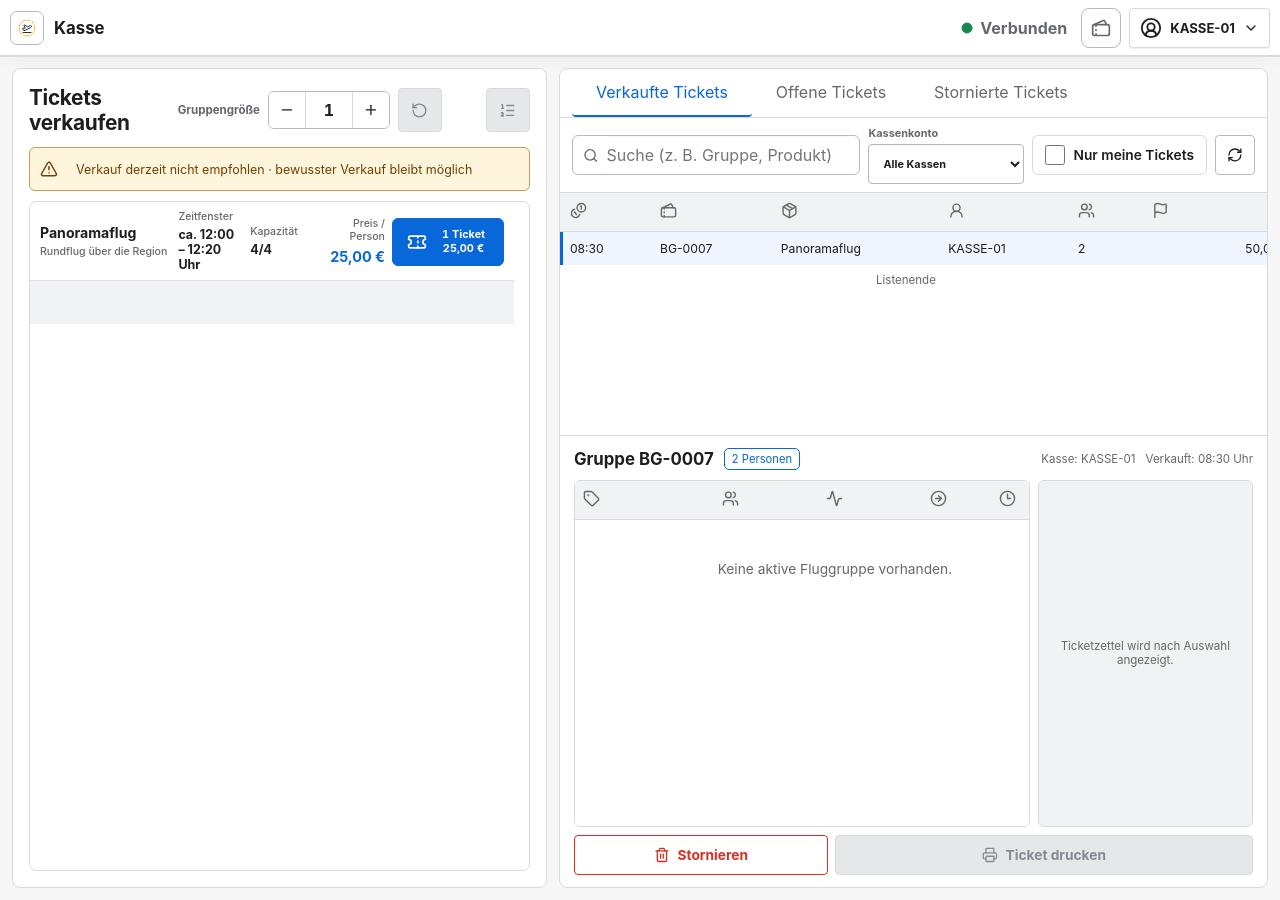
Scenario: cashier workflows › cancels the selected booking group with an explicit reason
The image size is (1280, 900).
Expected: the text "BG-0007" is shown, [650, 232, 771, 265]
Click the button "Stornieren": (701, 855) [574, 835, 828, 875]
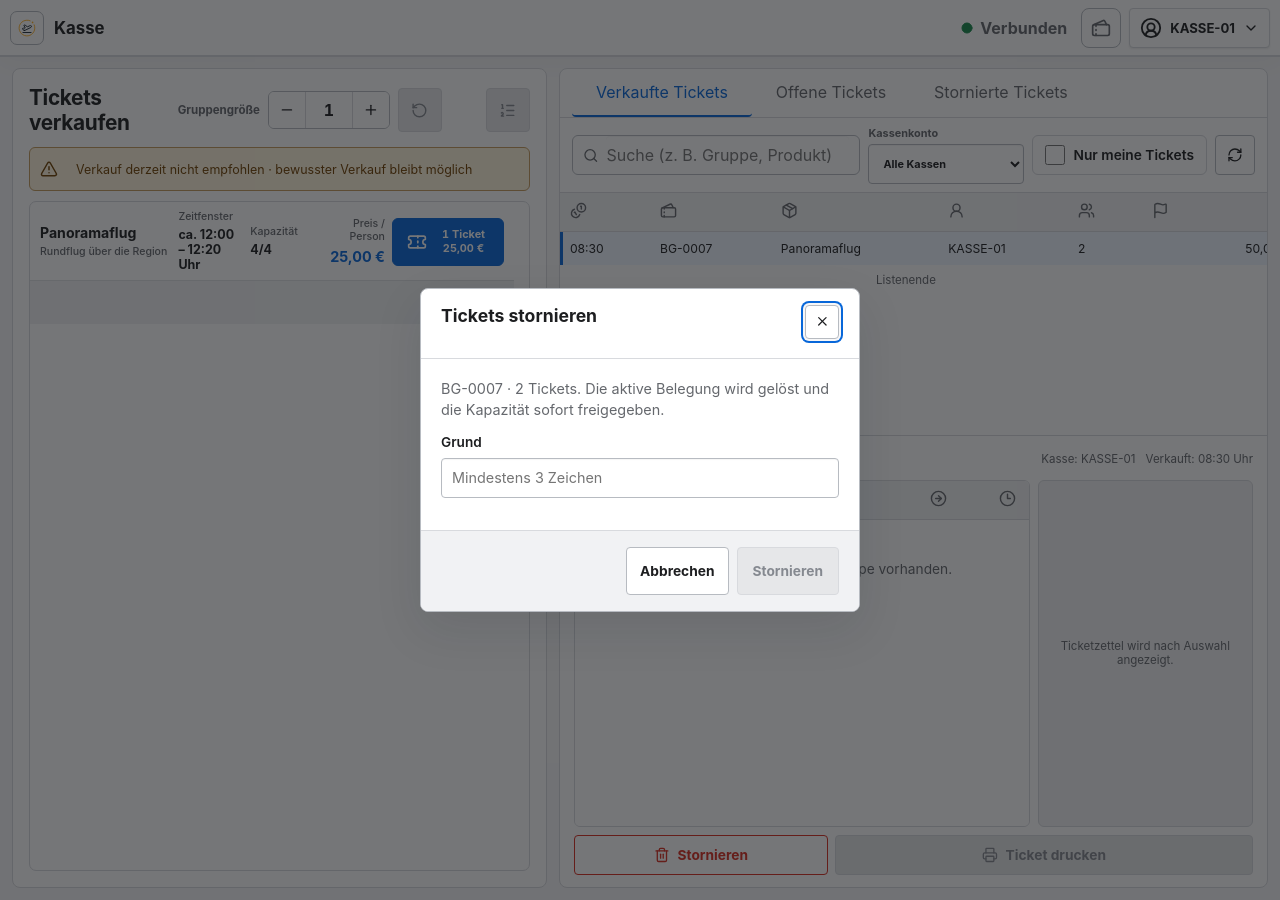
In the field labelled "Grund": (640, 478) [441, 458, 839, 498], type "Fehlverkauf"
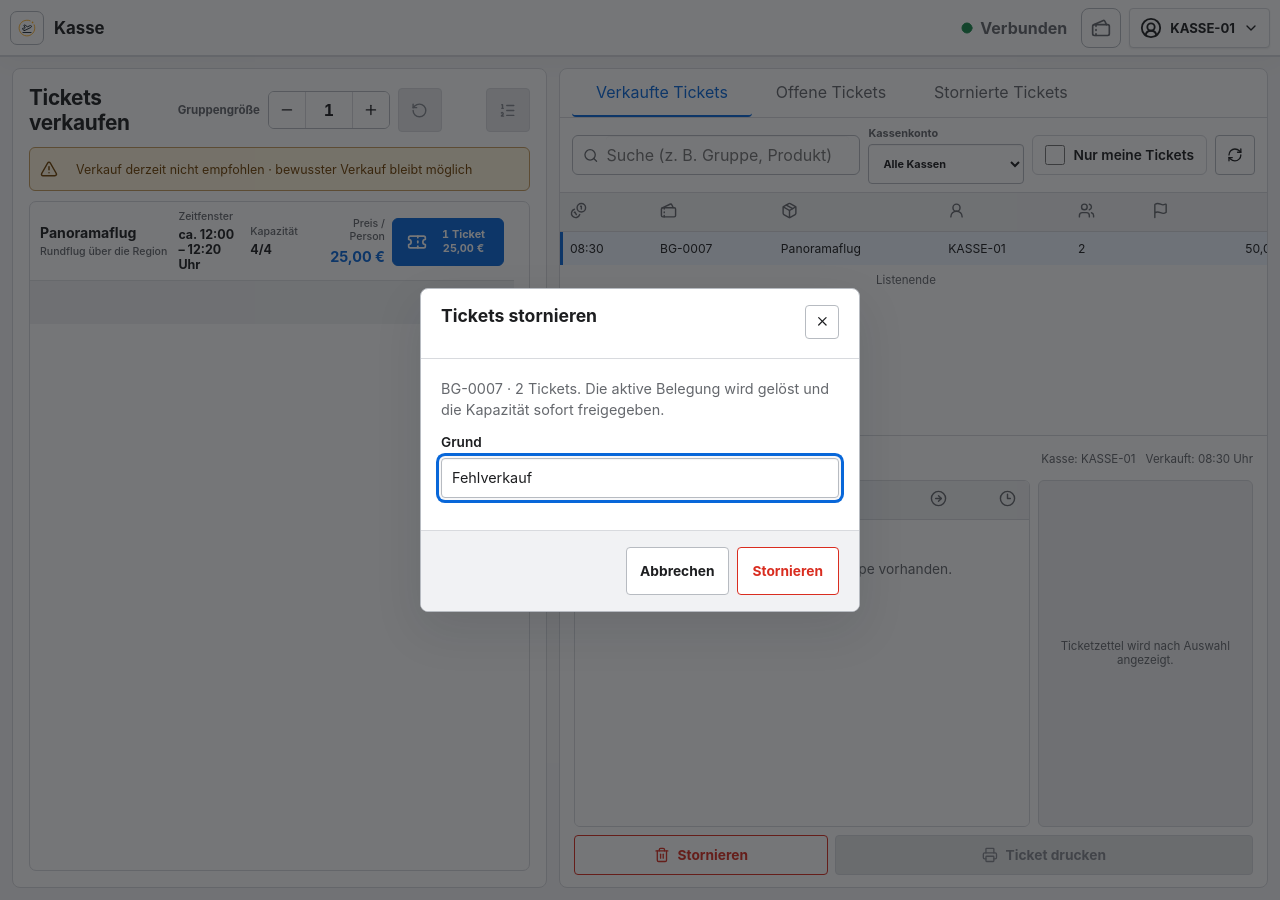
Click the button "Stornieren": (788, 571) [736, 547, 839, 595]
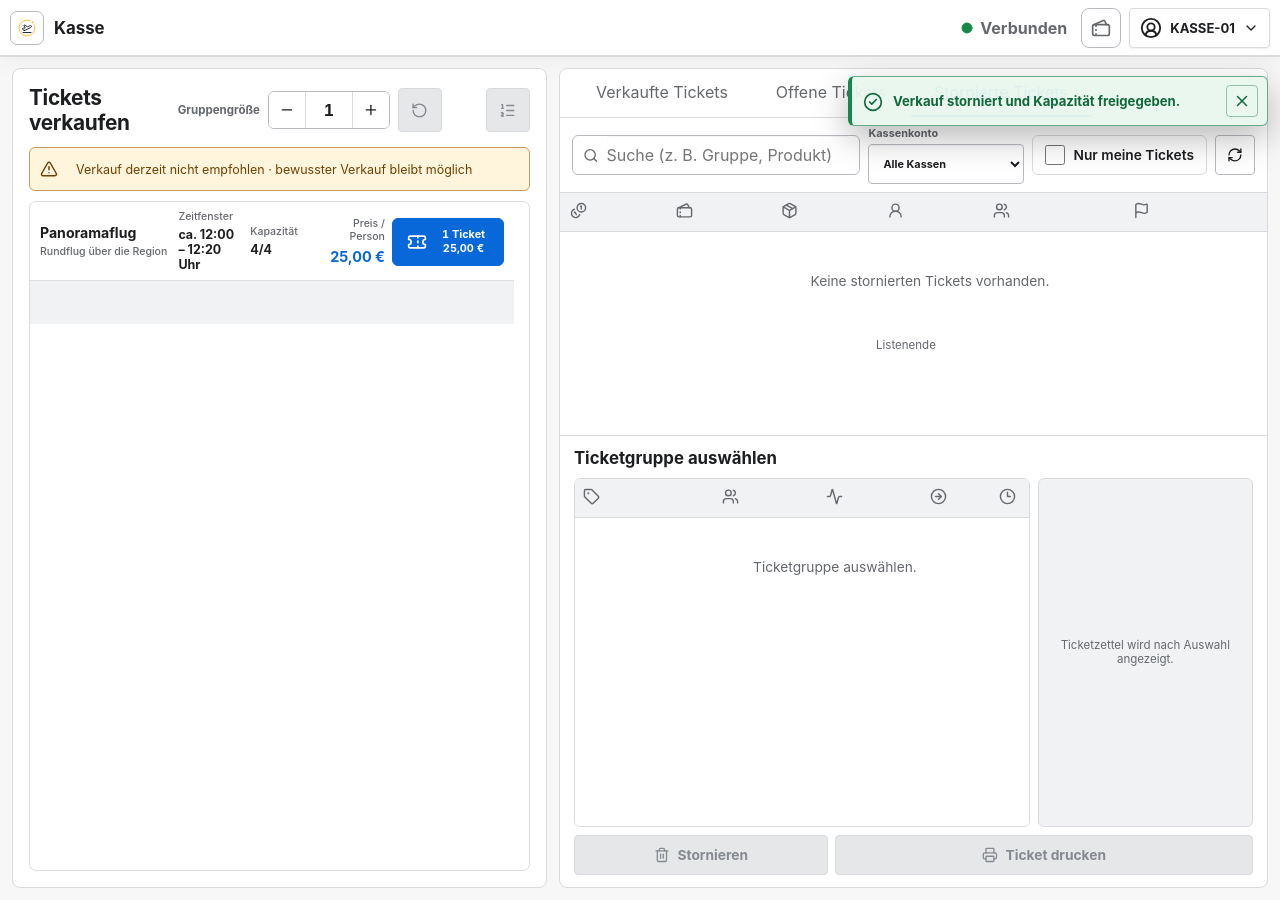
Expected: the text "Verkauf storniert und Kapazität freigegeben." is shown, [893, 92, 1216, 110]
